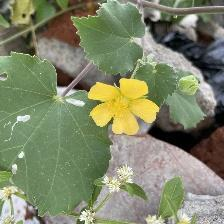indian mallow: (87, 78, 163, 140)
